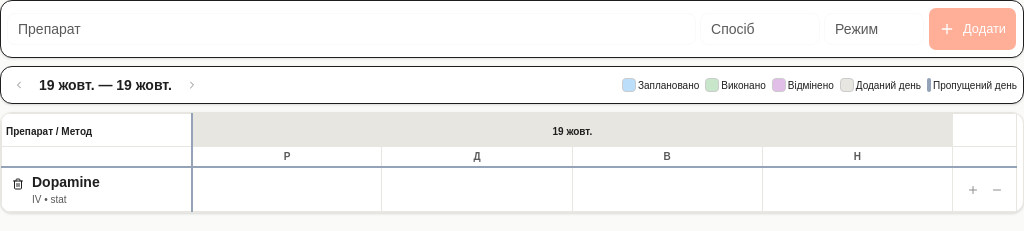
Test: PrescriptionSpreadsheet — per-item day actions › «Відмінити препарат» is hidden for an unplanned cell
Expected: the text "Dopamine" is shown, [32,174,100,190]
Right-click the 2nd cell: point(287, 189) [192,167,382,212]
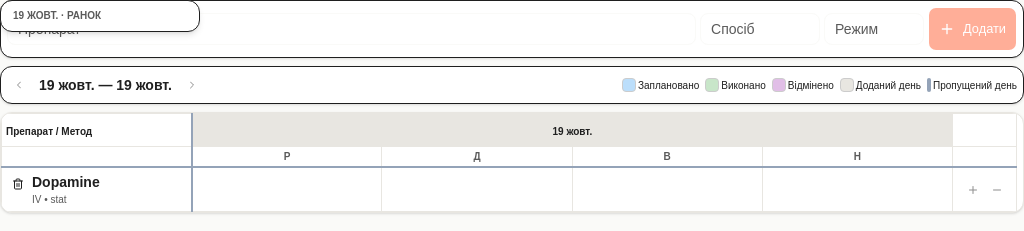
Result: the menu named "Контекстне меню дня" is shown at [0,0,200,32]
